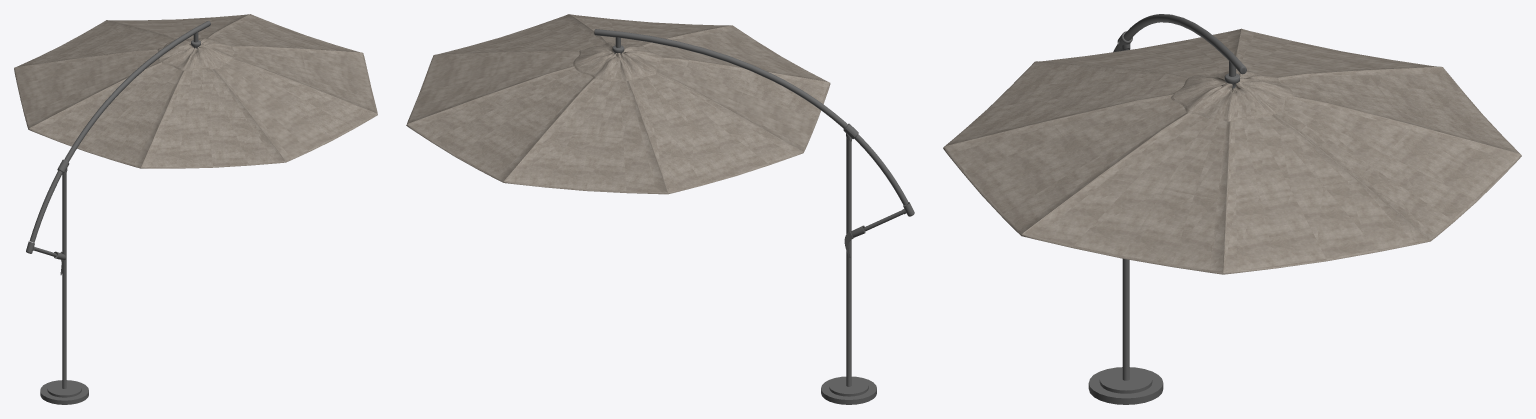
File: san-37c1d09f.gltf
3 renders of one model, left to right at view 1: azimuth 30°, elevation 25°; view 2: azimuth 150°, elevation 25°; view 3: azimuth 270°, elevation 25°, orthographic. The views are drawn at different scales.
Visible parts, largest first — view 1: root; view 2: root; view 3: root.
Boxes of the visible parts, box(x1,y1,x2,y2) form: root: box(14, 14, 377, 404); root: box(406, 14, 914, 404); root: box(943, 14, 1521, 404).
Size of the model in its own units: 2.74 by 2.08 by 2.38.
3 materials, 1 textured.
